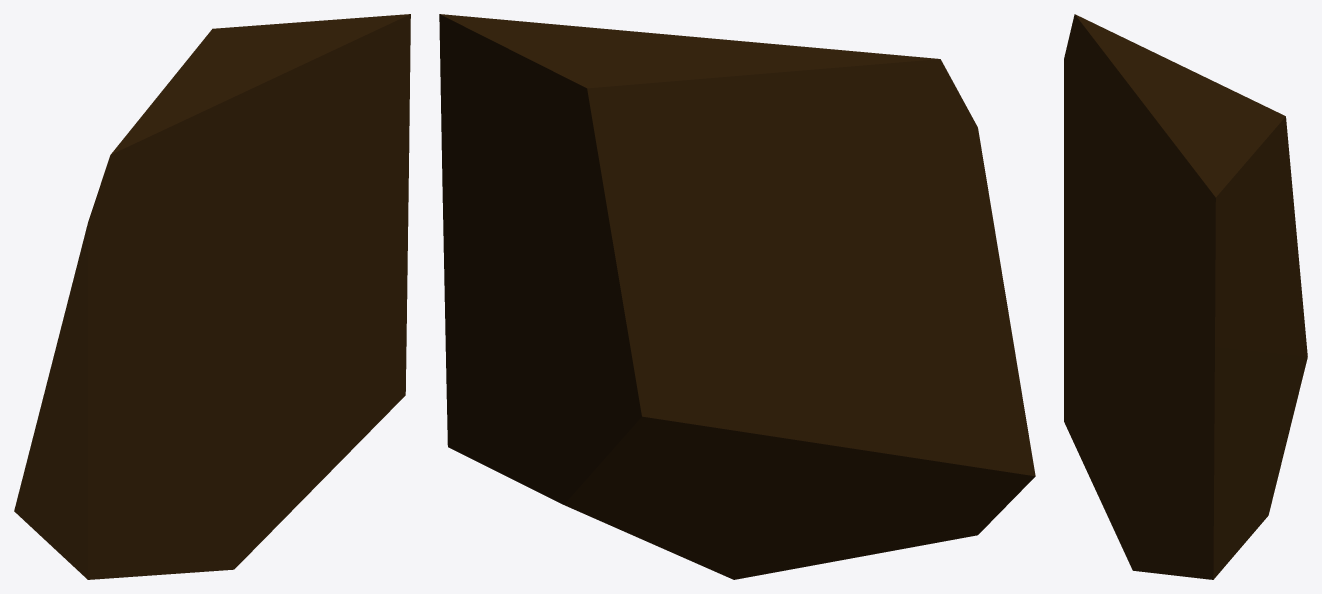
The model's file is Debris12.glb.
3 views of the same model, side by side, from view 1: azimuth 30°, elevation 25°; view 2: azimuth 150°, elevation 25°; view 3: azimuth 270°, elevation 25° (orthographic). The views are drawn at different scales.
Visible parts, largest first — view 1: Cylinder_cell.008; view 2: Cylinder_cell.008; view 3: Cylinder_cell.008.
Part boxes in pixels (x1,y1,x2,y2): Cylinder_cell.008: [14, 14, 410, 579]; Cylinder_cell.008: [439, 14, 1035, 579]; Cylinder_cell.008: [1064, 14, 1307, 579].
Size of the model in its own units: 0.7193 by 0.7069 by 0.3246.
